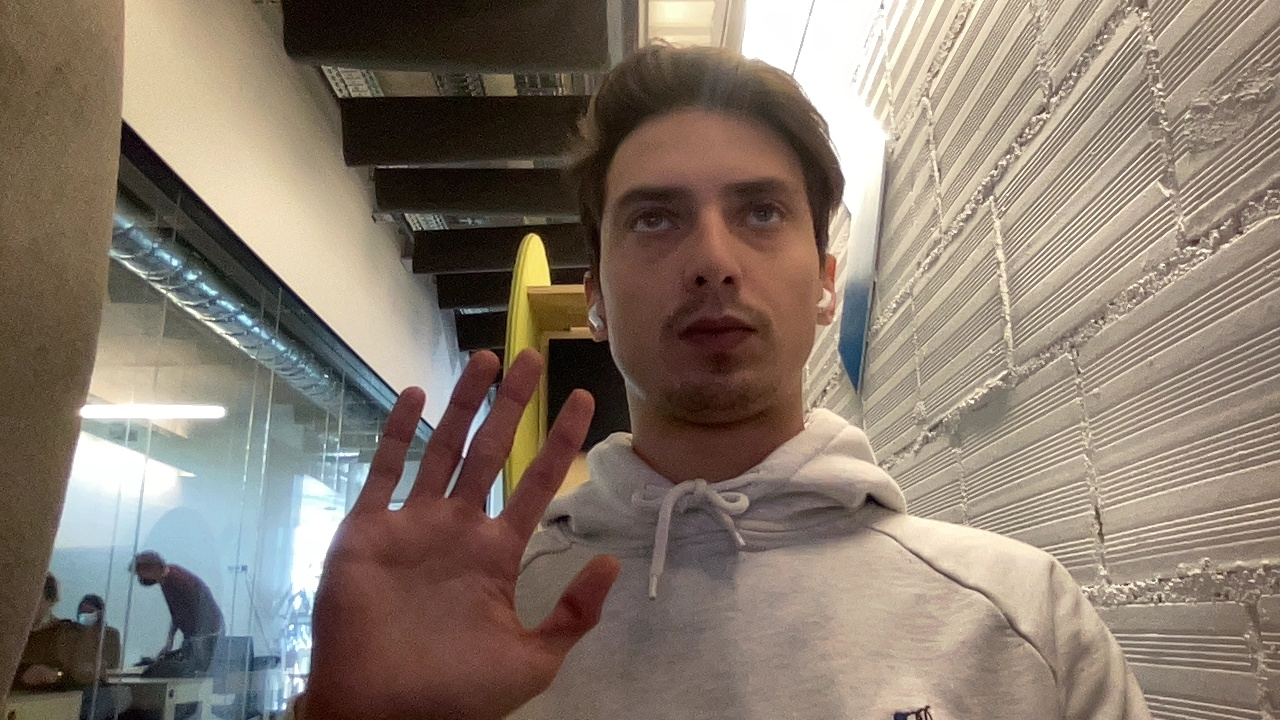Hello: (287, 358, 636, 706)
